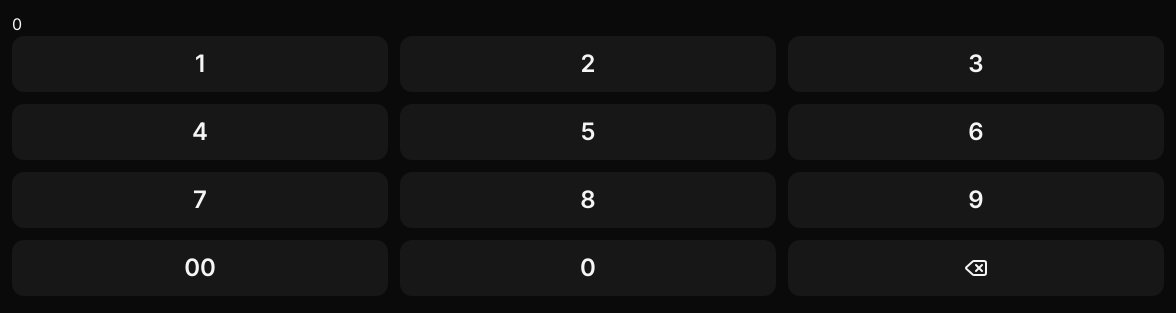
Test: AmountKeypad › appends double zero when not integer-only
Step 1. Click the button named "Enter 1" → x=200, y=64, box [12,36,388,92]
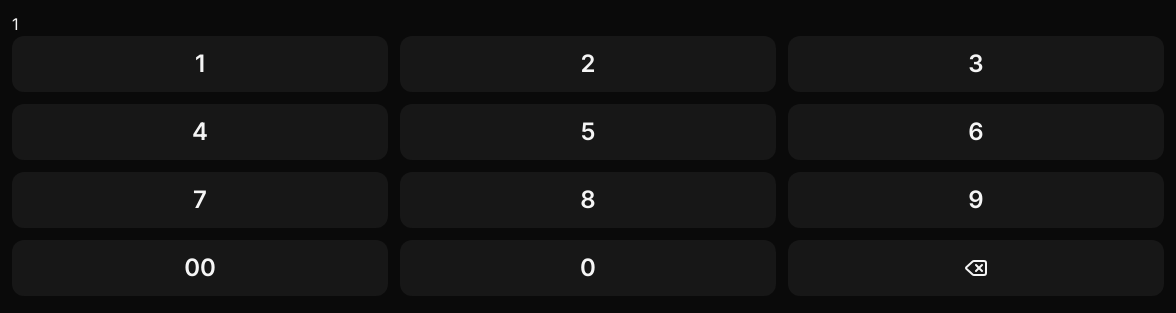
Step 2. Click the button named "Enter 00" → x=200, y=268, box [12,240,388,296]
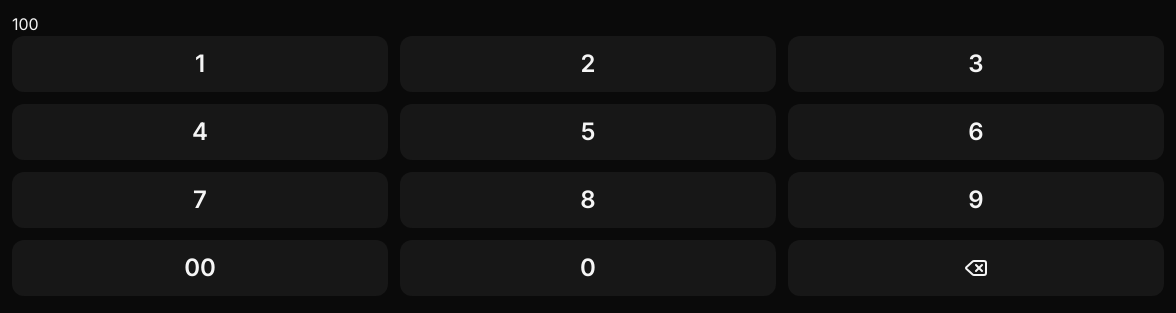
Now the text with test id "value" reads "100", box [12,14,39,34]
